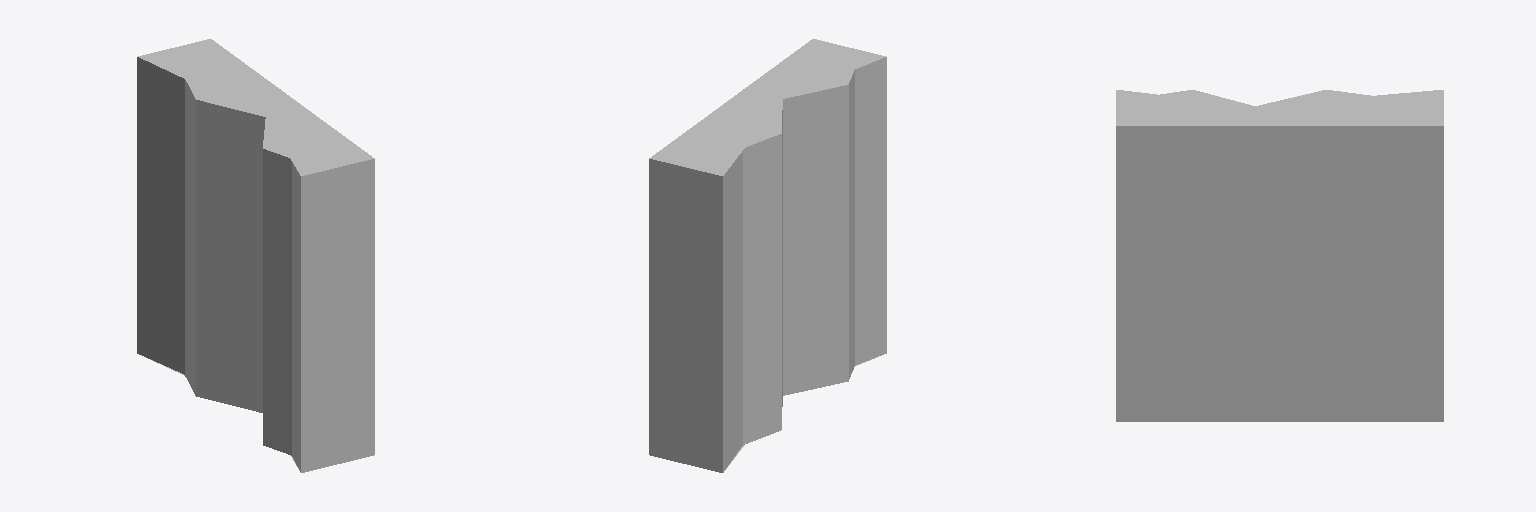
File: Brown_Cliff_01_2.obj
The picture shows the model from 3 angles: view 1: azimuth 30°, elevation 25°; view 2: azimuth 150°, elevation 25°; view 3: azimuth 270°, elevation 25°; orthographic projection.
Parts seen in each view (by area): view 1: Cube.000_Cube.002; view 2: Cube.000_Cube.002; view 3: Cube.000_Cube.002.
Boxes of the visible parts, <box> form: Cube.000_Cube.002: <box>137,39,374,472</box>; Cube.000_Cube.002: <box>649,39,886,472</box>; Cube.000_Cube.002: <box>1116,90,1443,421</box>.
Bounding box in the file's own units: 0.26 × 1 × 1.